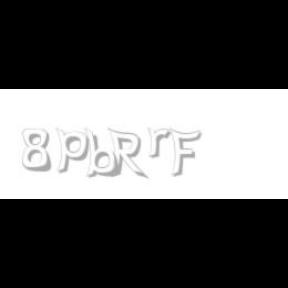8: (22, 128, 51, 172)
F: (169, 128, 201, 178)
R: (107, 128, 145, 180)
b: (84, 128, 122, 178)
p: (55, 128, 92, 174)
r: (148, 128, 174, 158)
